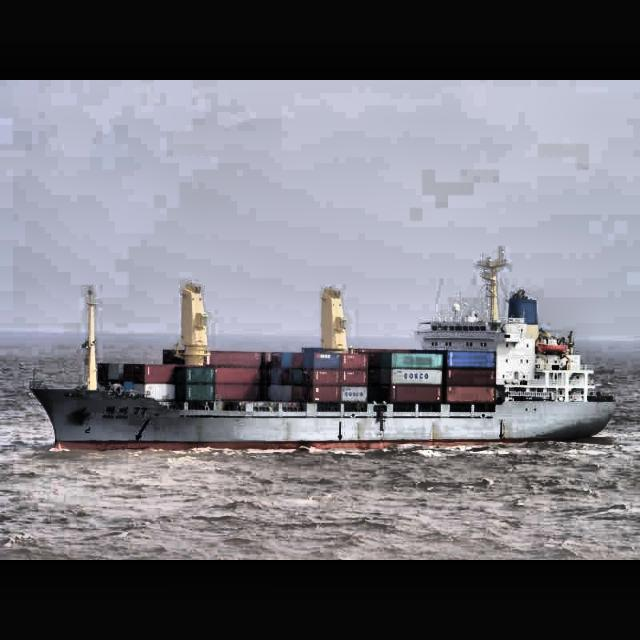container: (27, 244, 618, 453)
